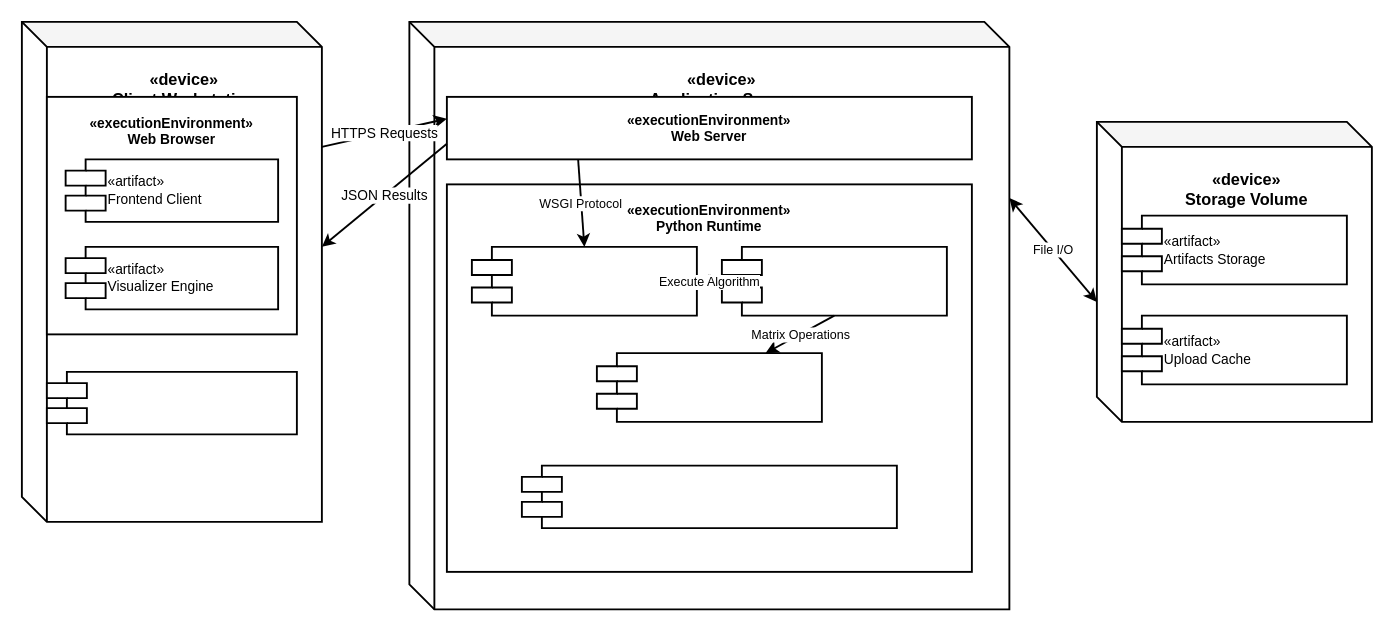
This 1395x633 diagram has some shape labels left out. The shapes that lost their labels are listed below. From the top down, each one's centre as x and y in pixels, then its label:
At (x=583, y=280): "«artifact» Django Web App".
At (x=833, y=280): "«artifact» tensordecomp Engine".
At (x=171, y=402): "«artifact» LocalStorage".
At (x=708, y=387): "«artifact» NumPy BLAS".
At (x=708, y=496): "«artifact» Automated Test Suite".
